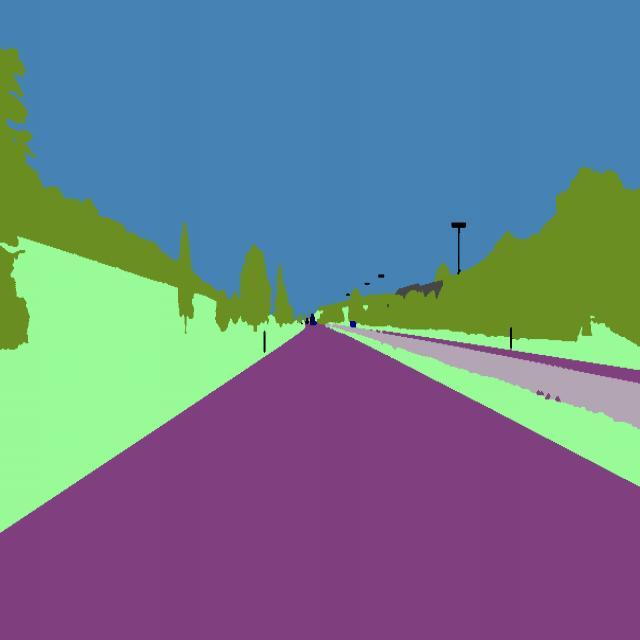safe: (306, 310, 320, 330), (348, 321, 358, 332)
